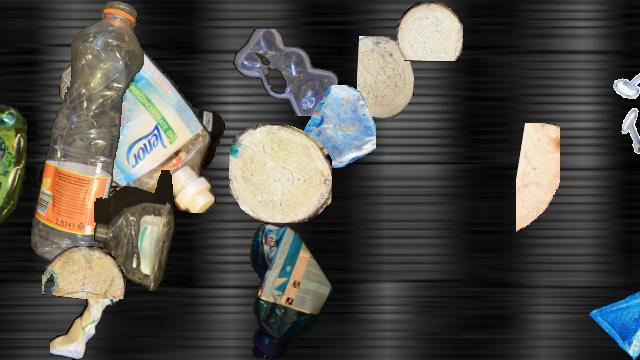glass: (293, 85, 375, 167), (588, 269, 640, 359)
metal: (614, 108, 640, 154), (613, 59, 640, 103)
plastic: (31, 1, 143, 265), (58, 40, 218, 212), (37, 111, 225, 247), (244, 221, 332, 359), (94, 170, 176, 292), (233, 29, 339, 115), (50, 275, 118, 359), (0, 103, 26, 251)
wood: (229, 124, 331, 222), (516, 123, 560, 239), (357, 36, 413, 118), (42, 246, 126, 298), (397, 2, 463, 60)
